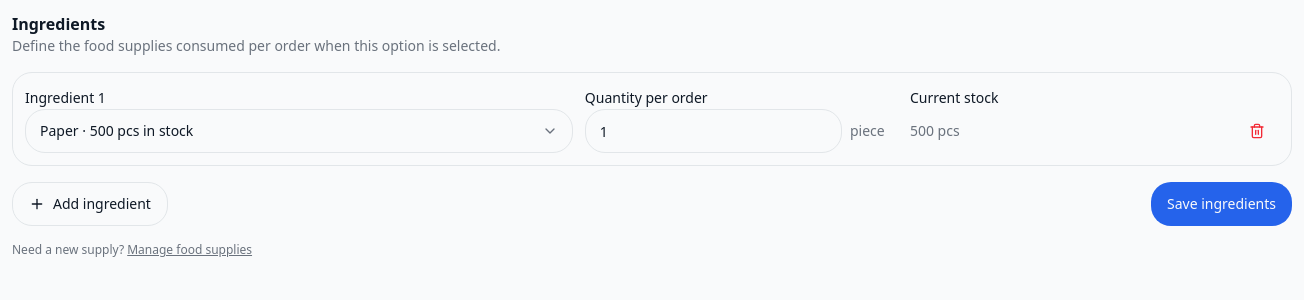
Test case: OrderOptionIngredientsForm › maps server validation errors onto rows
Expected: the button named "Ingredient 1" is shown, [25,109,573,153]
Step 1. Click the button "Save ingredients" → (1222, 204), box [1151,182,1292,226]
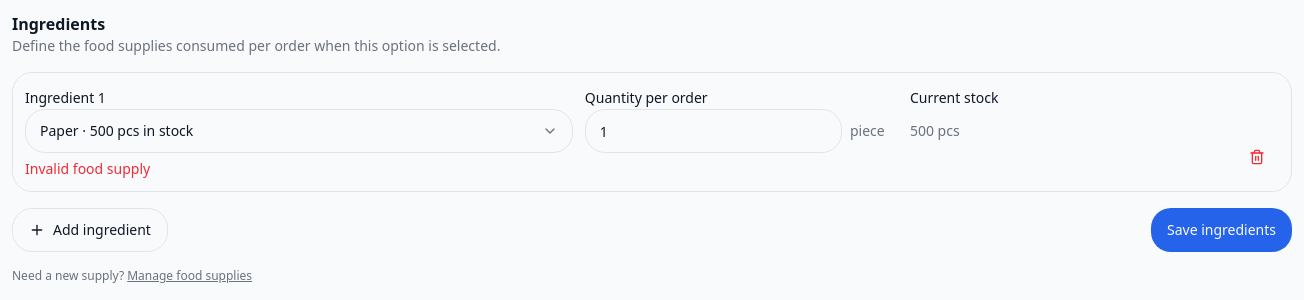
Expected: the text "Invalid food supply" is shown, [25,159,150,178]
